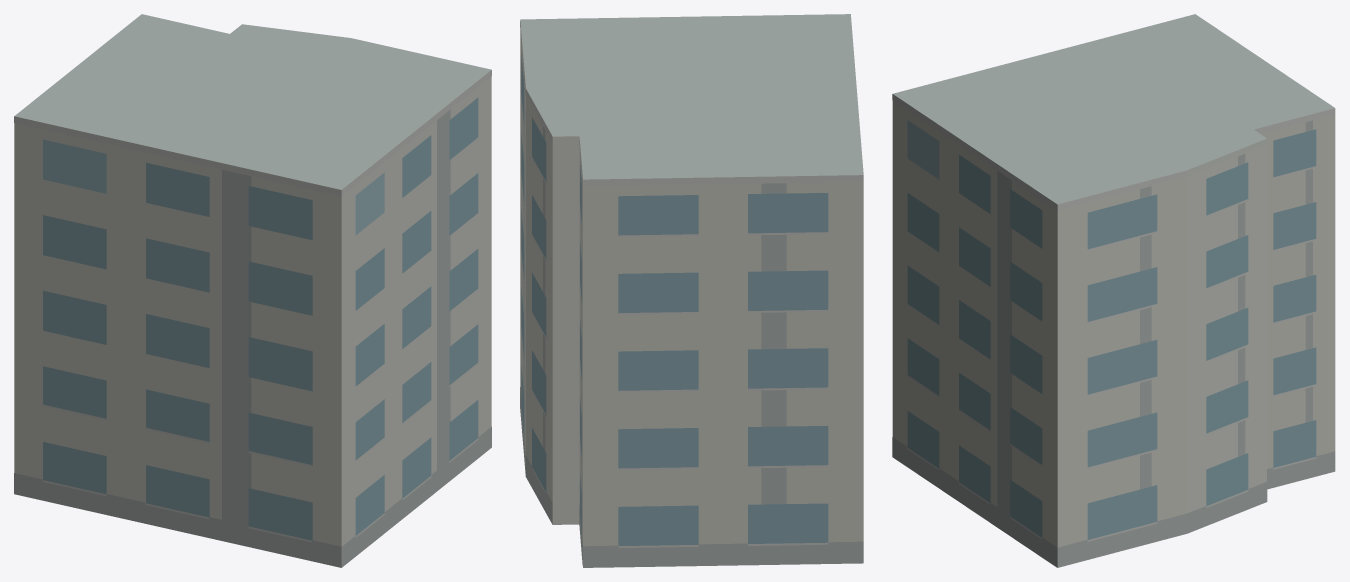
The model's file is residential-e8168f74-6af9-46d0-a24c-ce4e1cf642a0.glb.
3 views of the same model, side by side, from view 1: azimuth 30°, elevation 25°; view 2: azimuth 150°, elevation 25°; view 3: azimuth 270°, elevation 25° (orthographic). The views are drawn at different scales.
Parts seen in each view (by area): view 1: residential-e8168f74-6af9-46d0-a24c-ce4e1cf642a0.tmp; view 2: residential-e8168f74-6af9-46d0-a24c-ce4e1cf642a0.tmp; view 3: residential-e8168f74-6af9-46d0-a24c-ce4e1cf642a0.tmp.
Boxes of the visible parts, <box> form: residential-e8168f74-6af9-46d0-a24c-ce4e1cf642a0.tmp: <box>14,14,491,567</box>; residential-e8168f74-6af9-46d0-a24c-ce4e1cf642a0.tmp: <box>520,14,863,567</box>; residential-e8168f74-6af9-46d0-a24c-ce4e1cf642a0.tmp: <box>892,14,1335,567</box>.
Size of the model in its own units: 15.52 by 13.8 by 15.25.
